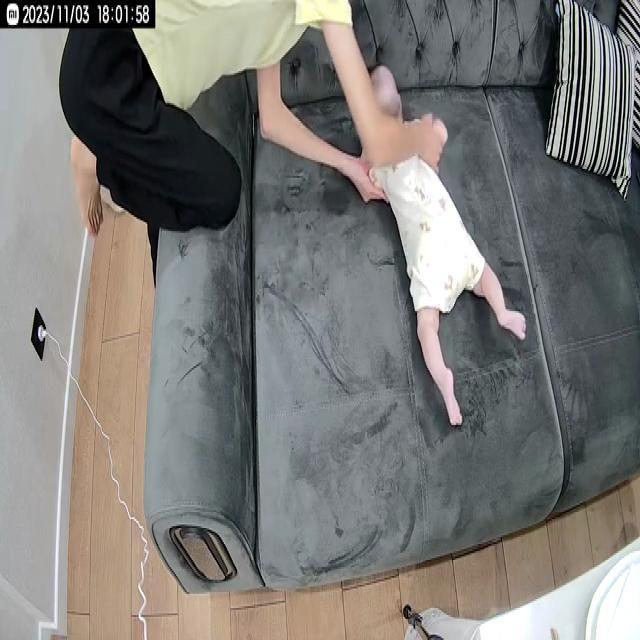baby: (352, 61, 529, 437)
